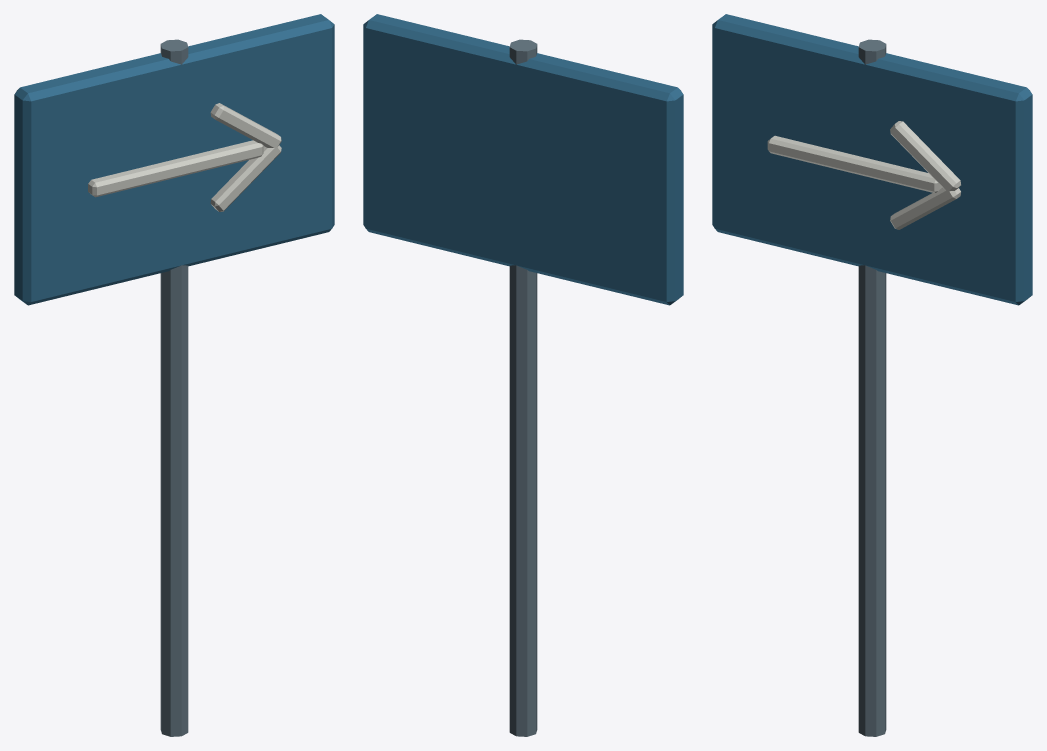
File: props-sign.lod0.glb
The picture shows the model from 3 angles, left to right: view 1: azimuth 30°, elevation 25°; view 2: azimuth 150°, elevation 25°; view 3: azimuth 330°, elevation 25°; orthographic projection.
Parts seen in each view (by area): view 1: props-sign__body; view 2: props-sign__body; view 3: props-sign__body.
Part boxes in pixels (left/top/right/bottom): props-sign__body: left=14, top=14, right=334, bottom=736; props-sign__body: left=363, top=14, right=683, bottom=736; props-sign__body: left=712, top=14, right=1032, bottom=736.
Bounding box in the file's own units: 1 × 2.1 × 0.1125.
